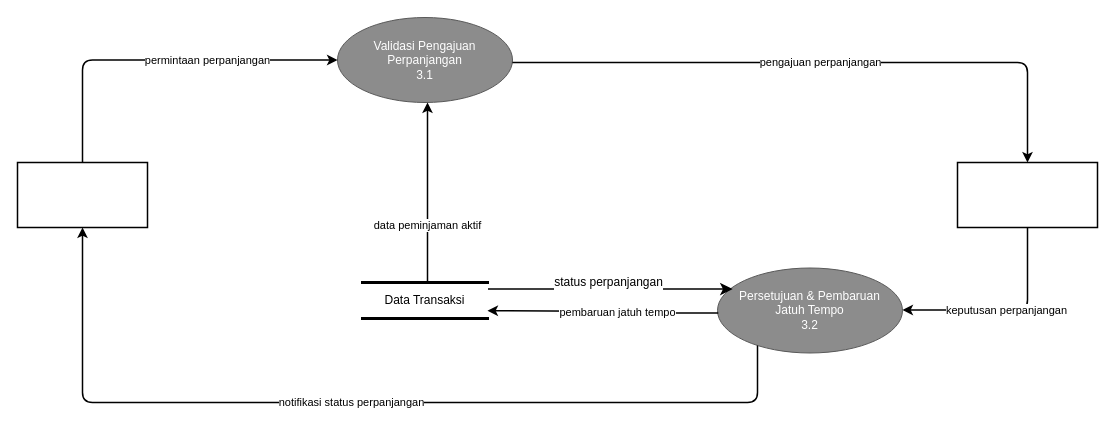
This 1116x429 diagram has some shape labels left out. The centre of each missing label's shape, as x and y in pixels:
"Pengguna (Mahasiswa)" goes at (82,194).
"Petugas Perpustakaan" goes at (1027,194).
